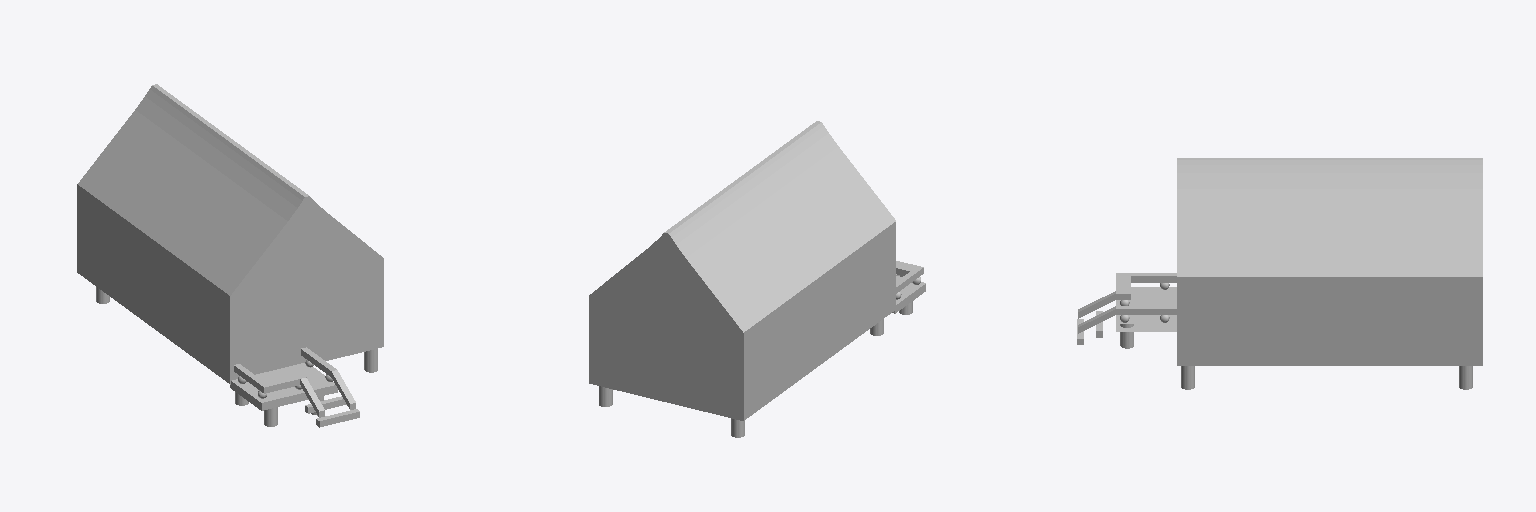
The model's file is house.obj.
3 views of the same model, side by side, from view 1: azimuth 30°, elevation 25°; view 2: azimuth 150°, elevation 25°; view 3: azimuth 270°, elevation 25° (orthographic).
Parts seen in each view (by area): view 1: Cube_Cube.003; view 2: Cube_Cube.003; view 3: Cube_Cube.003.
Boxes of the visible parts, x1,y1,x2,y2 form: Cube_Cube.003: [77, 84, 383, 427]; Cube_Cube.003: [589, 121, 925, 437]; Cube_Cube.003: [1077, 158, 1482, 389].
Bounding box in the file's own units: 25.76 × 30.99 × 58.72.